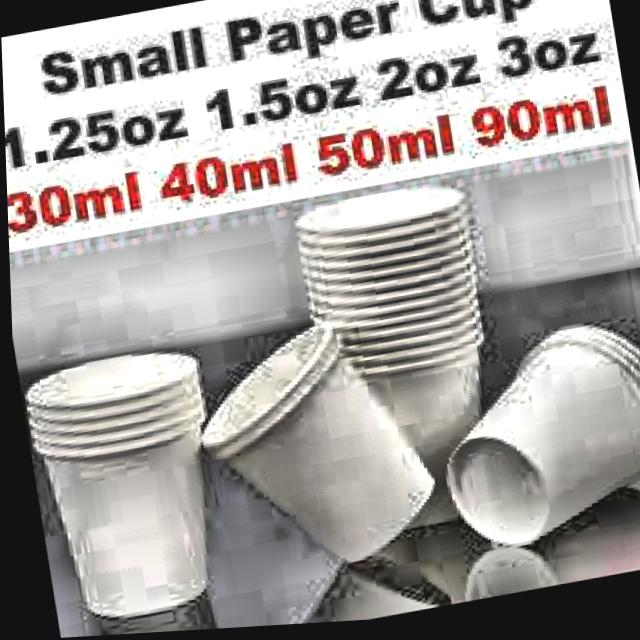Cup: (271, 176, 522, 559), (177, 302, 445, 591), (15, 337, 227, 629), (441, 307, 640, 563)
